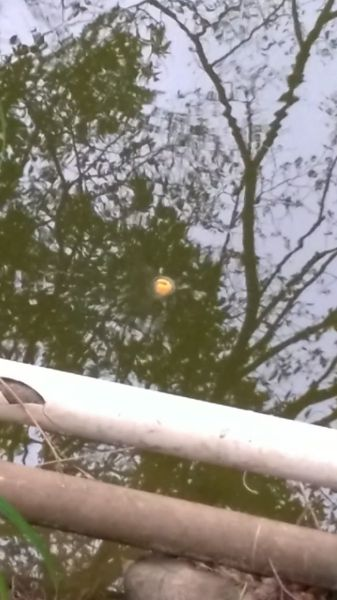eggs: (149, 274, 180, 299)
